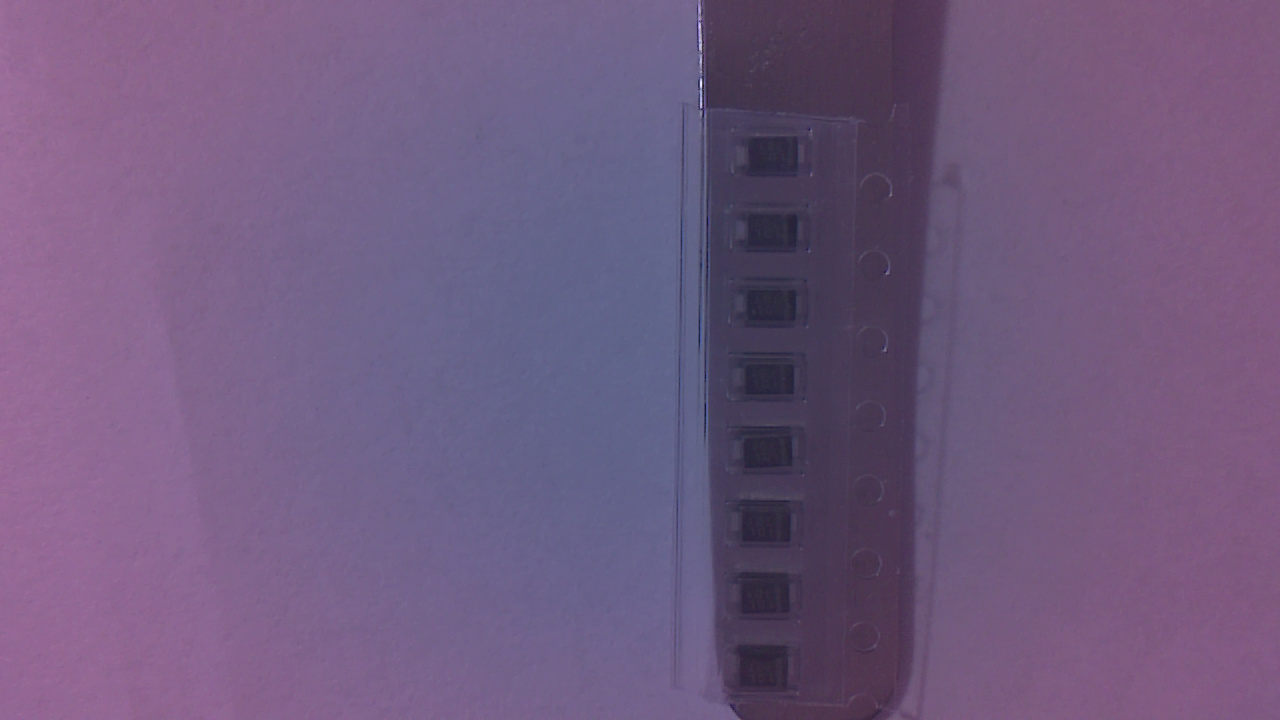Diode: (736, 137, 814, 184), (735, 287, 807, 333), (734, 213, 810, 256), (731, 651, 802, 694), (733, 579, 804, 621), (737, 363, 805, 404), (738, 435, 807, 473), (733, 511, 803, 548)
